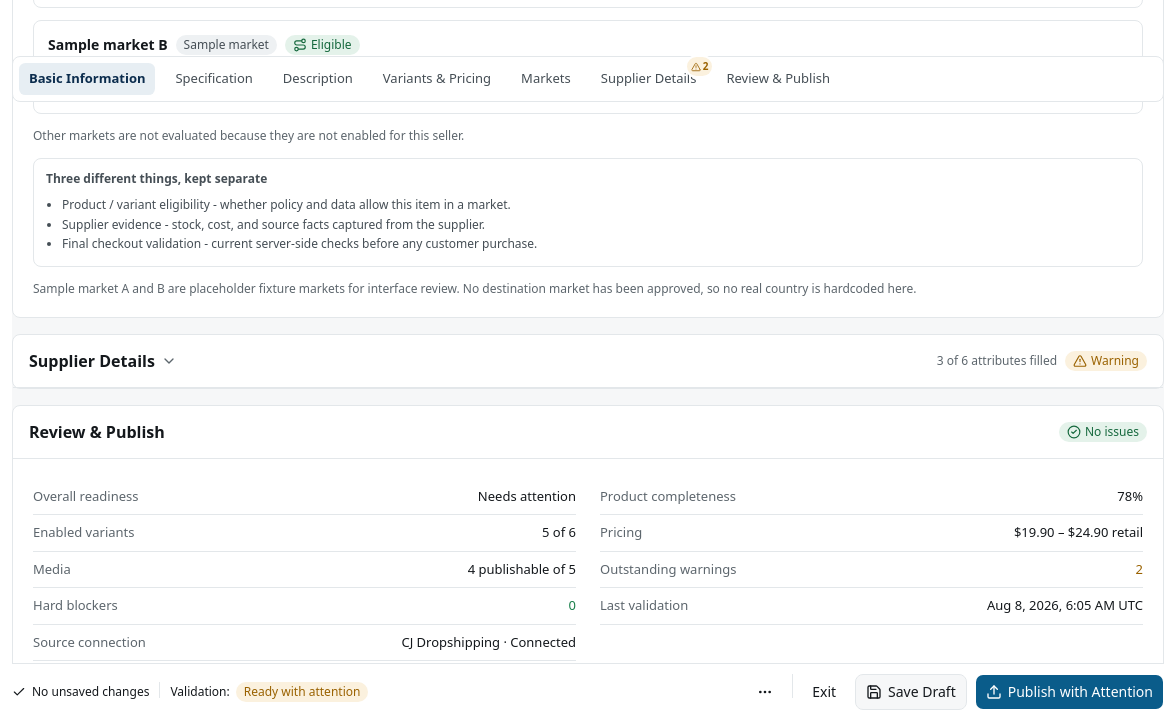
Product Editor - structure › never offers to delete or set a cover from a supplier photo - it is read-only evidence
(page scrolled)
Click the button "Supplier Details" at (103, 361), box [29,349,177,373]
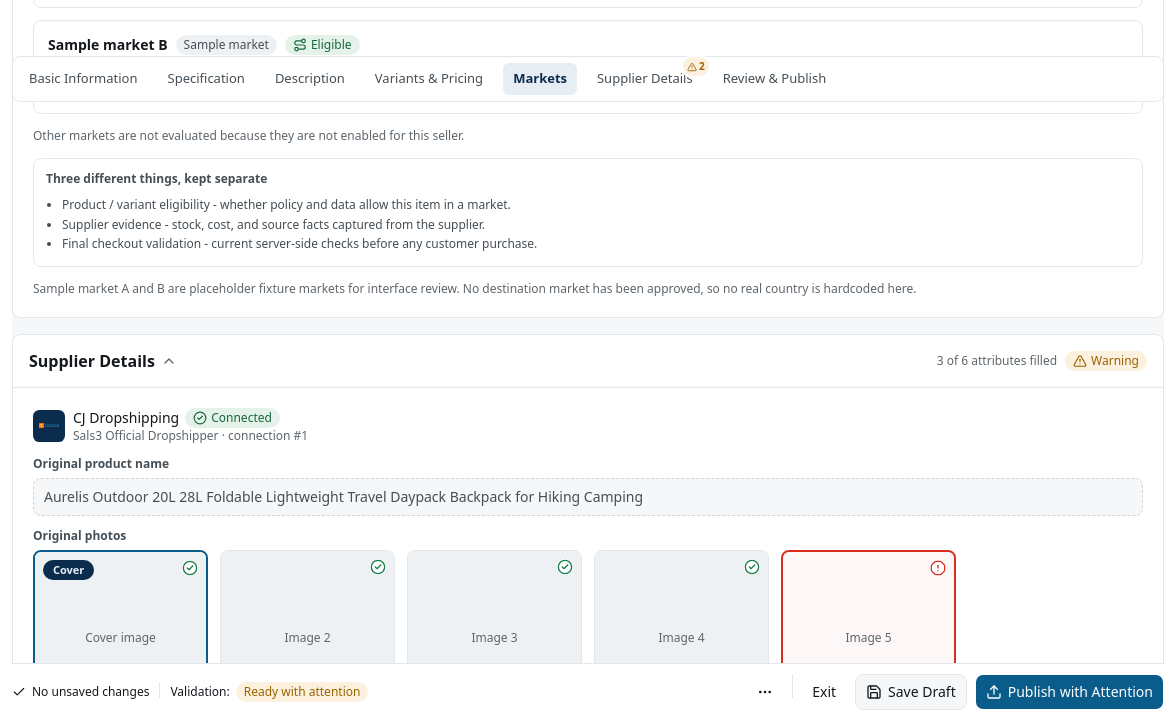
Expected: the text "Image 5" is shown, [845,629,892,646]
